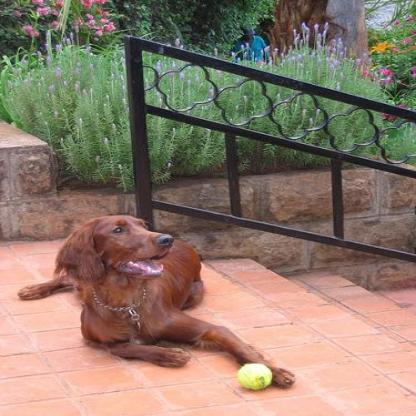Irish_setter: (13, 213, 295, 391)
